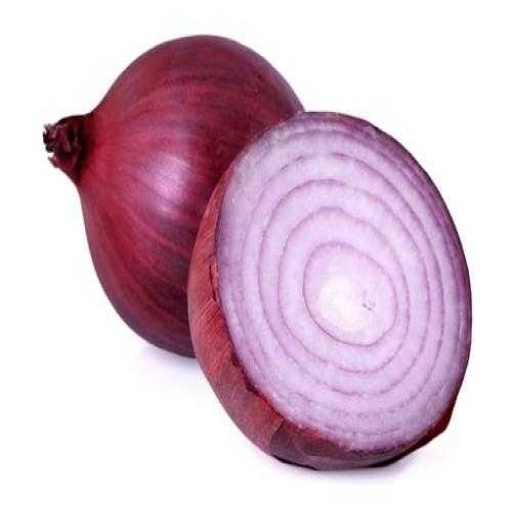Zwiebel: (188, 112, 472, 471), (43, 35, 305, 359)
